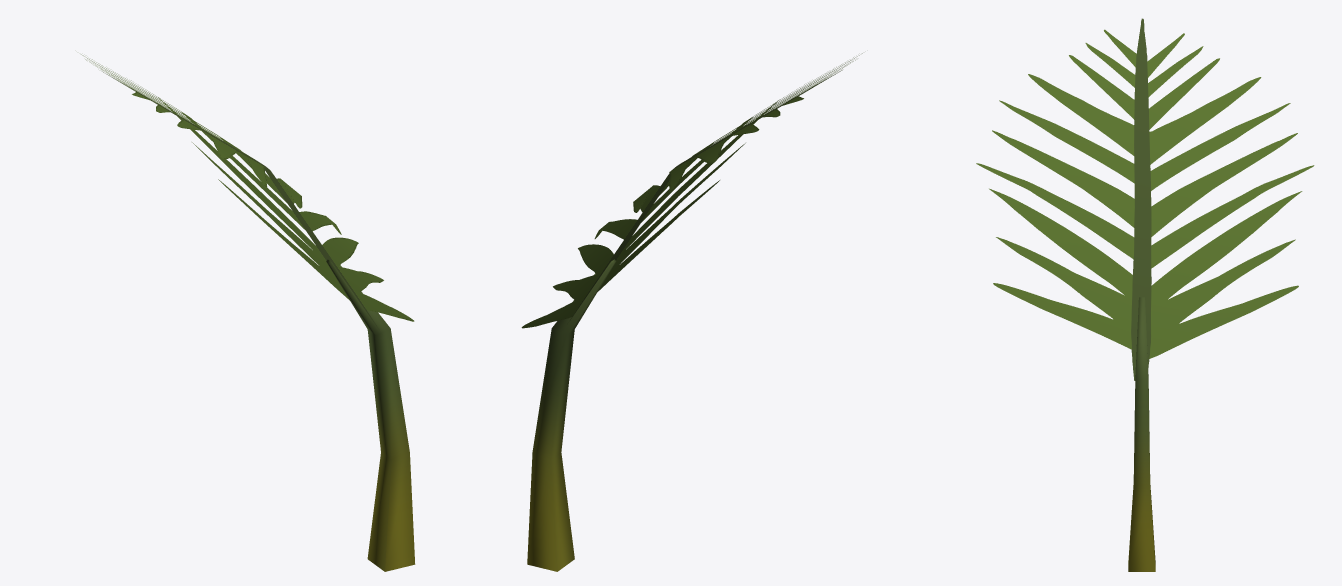
The model's file is Planta_1.fbx.
The picture shows the model from 3 angles, left to right: view 1: azimuth 30°, elevation 25°; view 2: azimuth 150°, elevation 25°; view 3: azimuth 270°, elevation 25°; orthographic projection. The views are drawn at different scales.
Parts seen in each view (by area): view 1: Planta_1; view 2: Planta_1; view 3: Planta_1.
Boxes of the visible parts, x1,y1,x2,y2 form: Planta_1: (81,54,415,571); Planta_1: (521,53,862,571); Planta_1: (976,18,1314,571).
Size of the model in its own units: 69.59 by 121 by 92.56.
